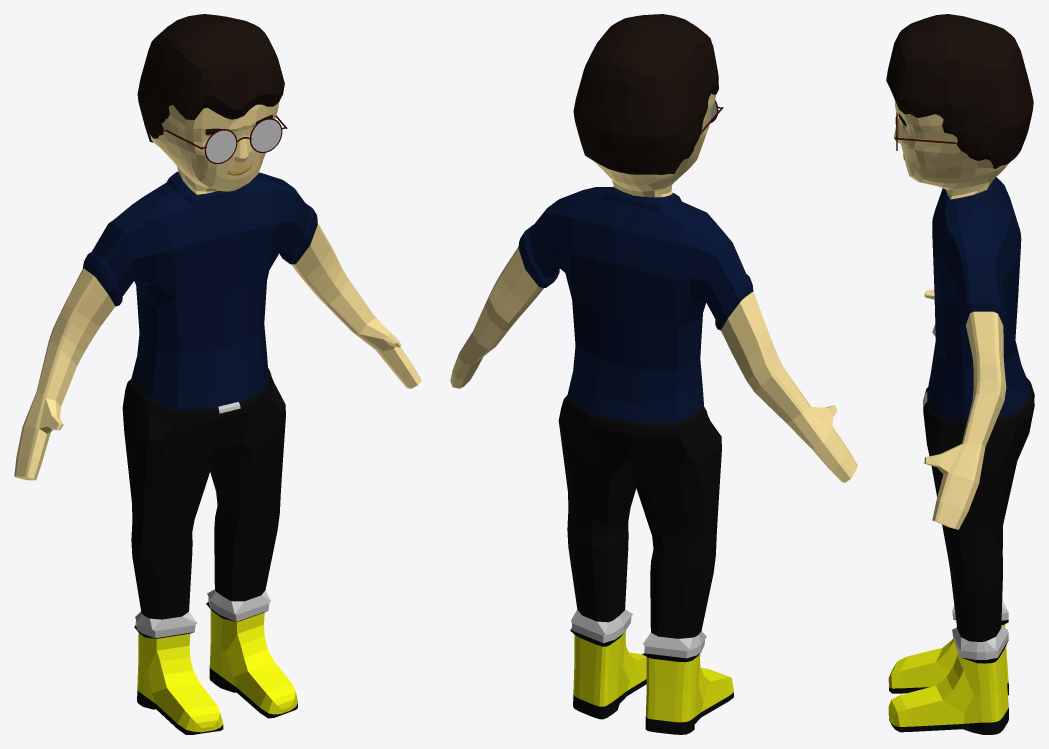
Rendered from Aaron_AST.FBX.
3 views of the same model, side by side, from view 1: azimuth 30°, elevation 25°; view 2: azimuth 150°, elevation 25°; view 3: azimuth 270°, elevation 25° (orthographic).
Parts seen in each view (by area): view 1: Aaron_AST; view 2: Aaron_AST; view 3: Aaron_AST.
Part boxes in pixels (x1,y1,x2,y2): Aaron_AST: (14,14,421,734); Aaron_AST: (450,14,857,734); Aaron_AST: (886,14,1034,734).
Size of what is drawn, in the model's own units: 320 by 102 by 521.
